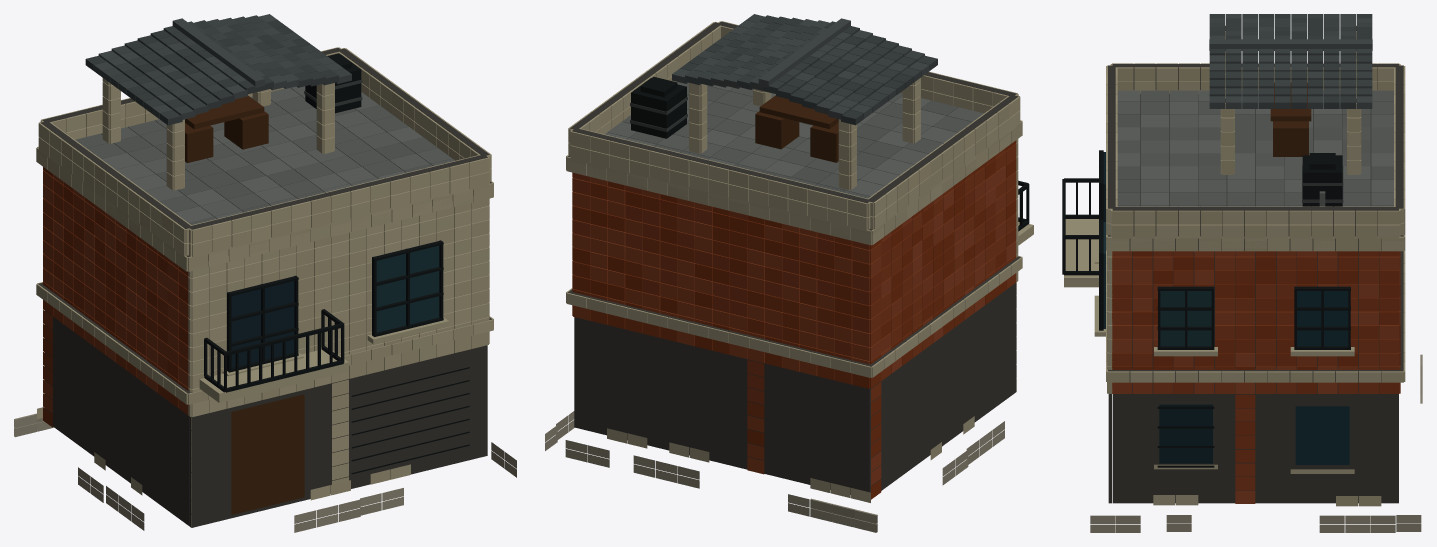
File: SM_StreetFrontage_041.fbx
3 renders of one model, left to right at view 1: azimuth 30°, elevation 25°; view 2: azimuth 150°, elevation 25°; view 3: azimuth 270°, elevation 25°, orthographic.
Parts seen in each view (by area): view 1: SM_StreetFrontage_041; view 2: SM_StreetFrontage_041; view 3: SM_StreetFrontage_041.
Boxes of the visible parts, bbox=[...] form: SM_StreetFrontage_041: bbox=[14, 14, 516, 532]; SM_StreetFrontage_041: bbox=[545, 14, 1033, 532]; SM_StreetFrontage_041: bbox=[1062, 14, 1422, 532].
Bounding box in the file's own units: 8 × 7.53 × 9.14.
